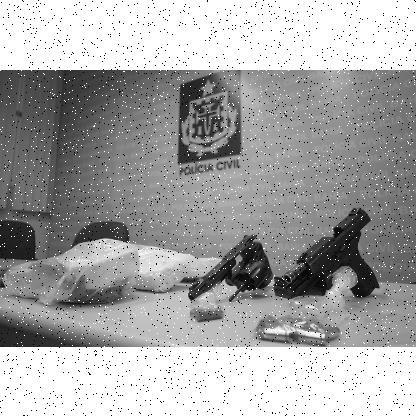gun: (272, 208, 380, 298), (188, 234, 274, 300)
